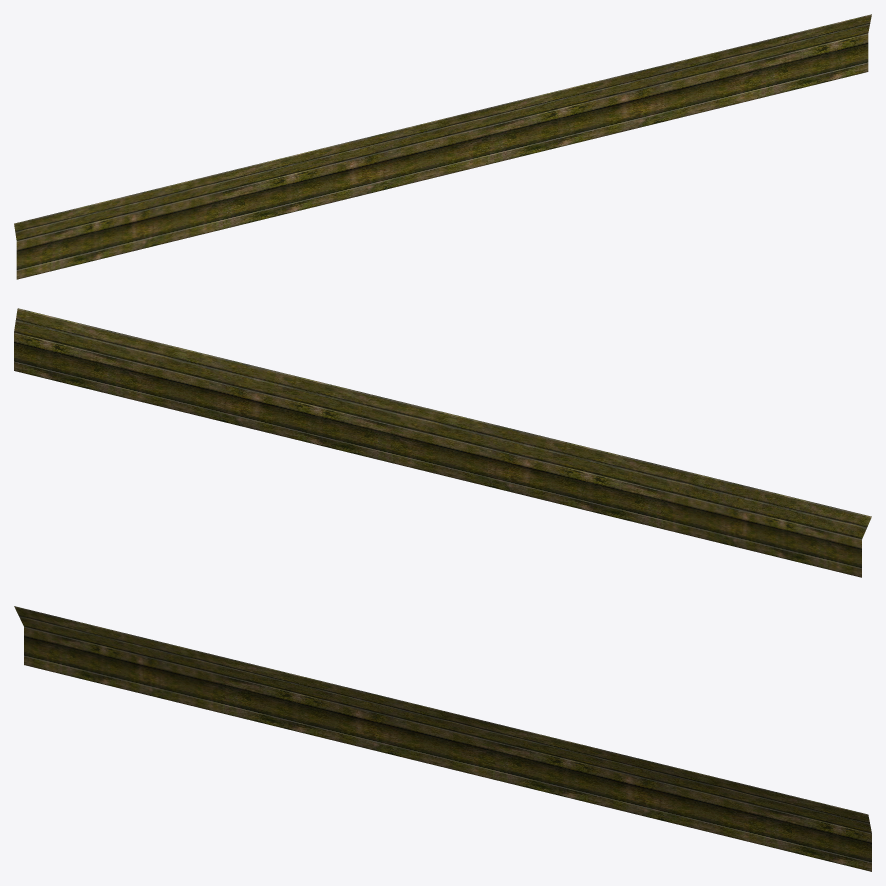
The model's file is OVERHILL_A_01_OBJECT314.fbx.
3 views of the same model, one above another, from view 1: azimuth 30°, elevation 25°; view 2: azimuth 150°, elevation 25°; view 3: azimuth 330°, elevation 25° (orthographic).
Parts seen in each view (by area): view 1: OVERHILL_A_01_OBJECT314; view 2: OVERHILL_A_01_OBJECT314; view 3: OVERHILL_A_01_OBJECT314.
Part boxes in pixels (x1,y1,x2,y2): OVERHILL_A_01_OBJECT314: (14, 14, 871, 279); OVERHILL_A_01_OBJECT314: (14, 308, 871, 577); OVERHILL_A_01_OBJECT314: (14, 606, 871, 871).
Size of the model in its own units: 183879 by 12361 by 1348.
Materials: 2 (2 with a texture image).
